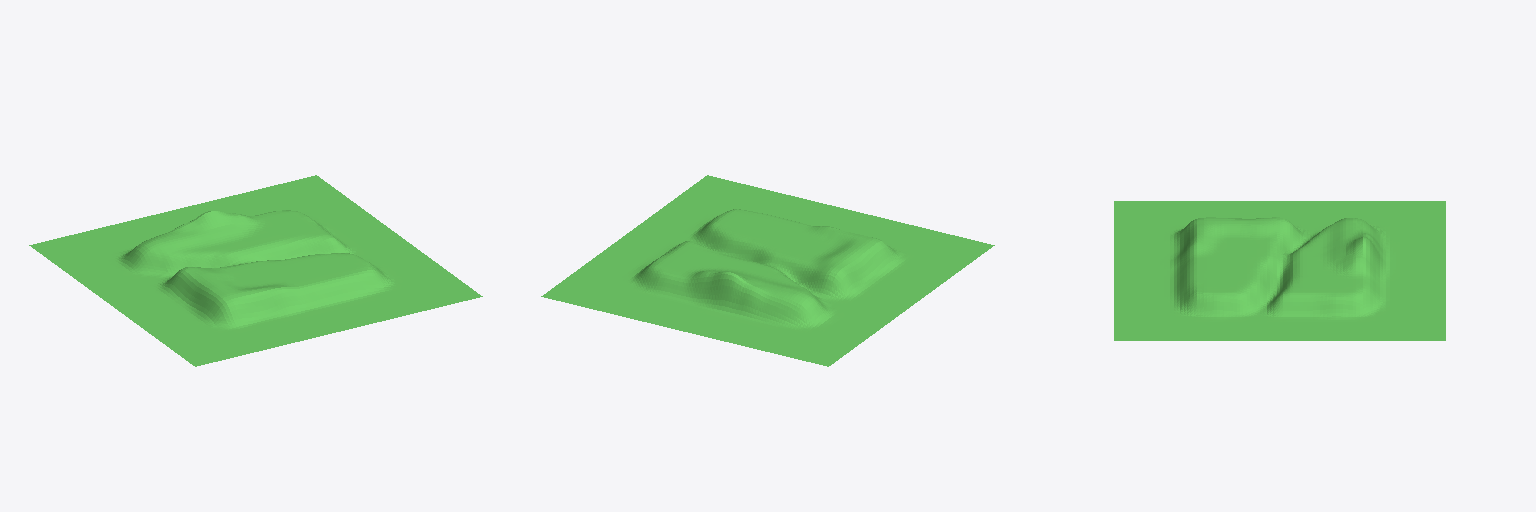
Rendered from Terrain.obj.
The picture shows the model from 3 angles: view 1: azimuth 30°, elevation 25°; view 2: azimuth 150°, elevation 25°; view 3: azimuth 270°, elevation 25°; orthographic projection.
Parts seen in each view (by area): view 1: Объект_Рельеф; view 2: Объект_Рельеф; view 3: Объект_Рельеф.
Part boxes in pixels (bbox=[...]): Объект_Рельеф: bbox=[29, 175, 482, 366]; Объект_Рельеф: bbox=[541, 175, 994, 366]; Объект_Рельеф: bbox=[1114, 201, 1445, 340].
Bounding box in the file's own units: 20000 × 2000 × 20000.